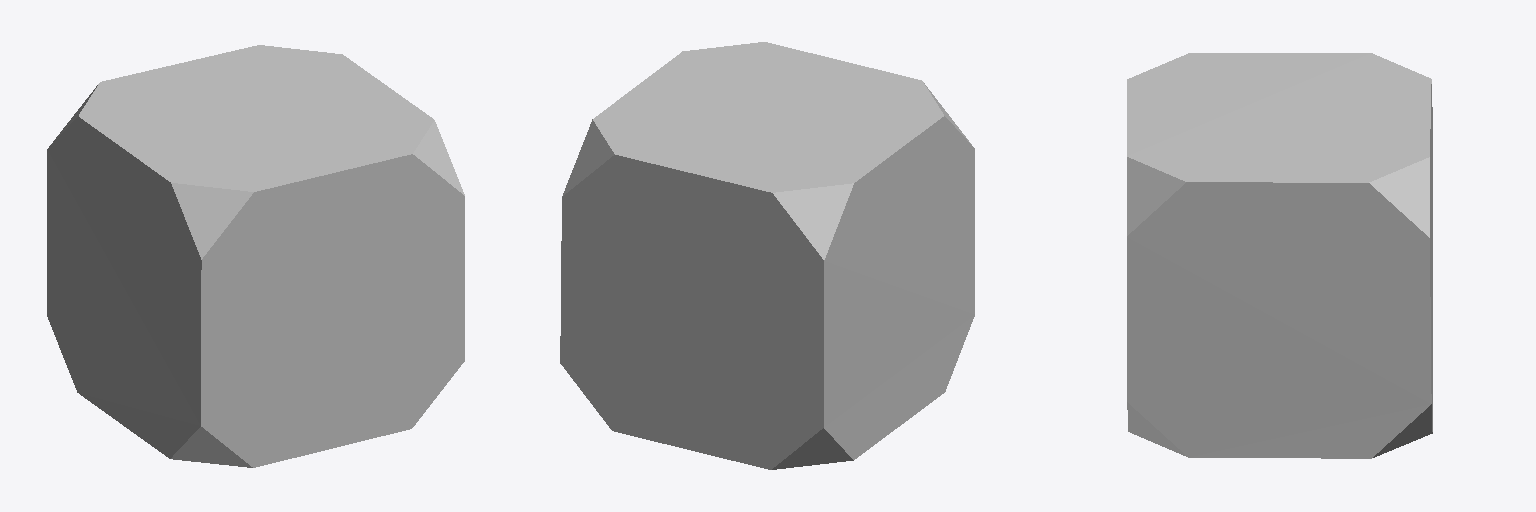
File: cube_cutted_smoothed_40.obj
3 renders of one model, left to right at view 1: azimuth 30°, elevation 25°; view 2: azimuth 150°, elevation 25°; view 3: azimuth 270°, elevation 25°, orthographic.
Bounding box in the file's own units: 0.5139 × 0.5139 × 0.5152.